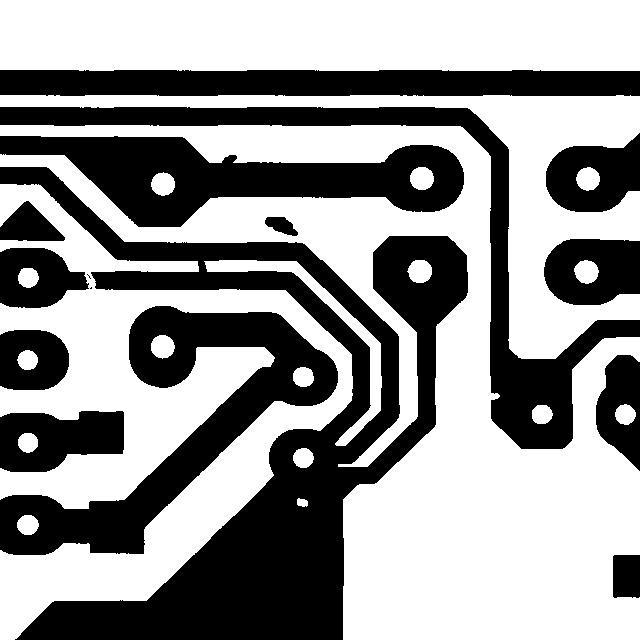copper: (255, 207, 307, 245)
mousebite: (478, 383, 509, 409)
open: (74, 258, 105, 304)
pin-hole: (287, 488, 317, 516)
short: (188, 247, 216, 282)
spur: (212, 145, 246, 174)
